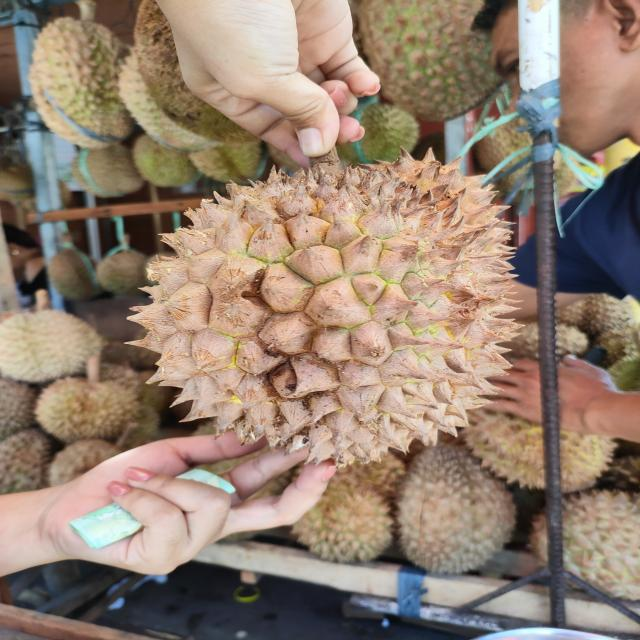mature: (127, 140, 530, 466), (393, 444, 520, 577)
